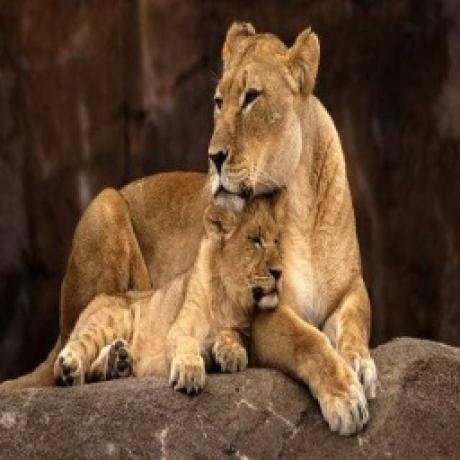Lion: (0, 19, 380, 440), (48, 190, 289, 393)
